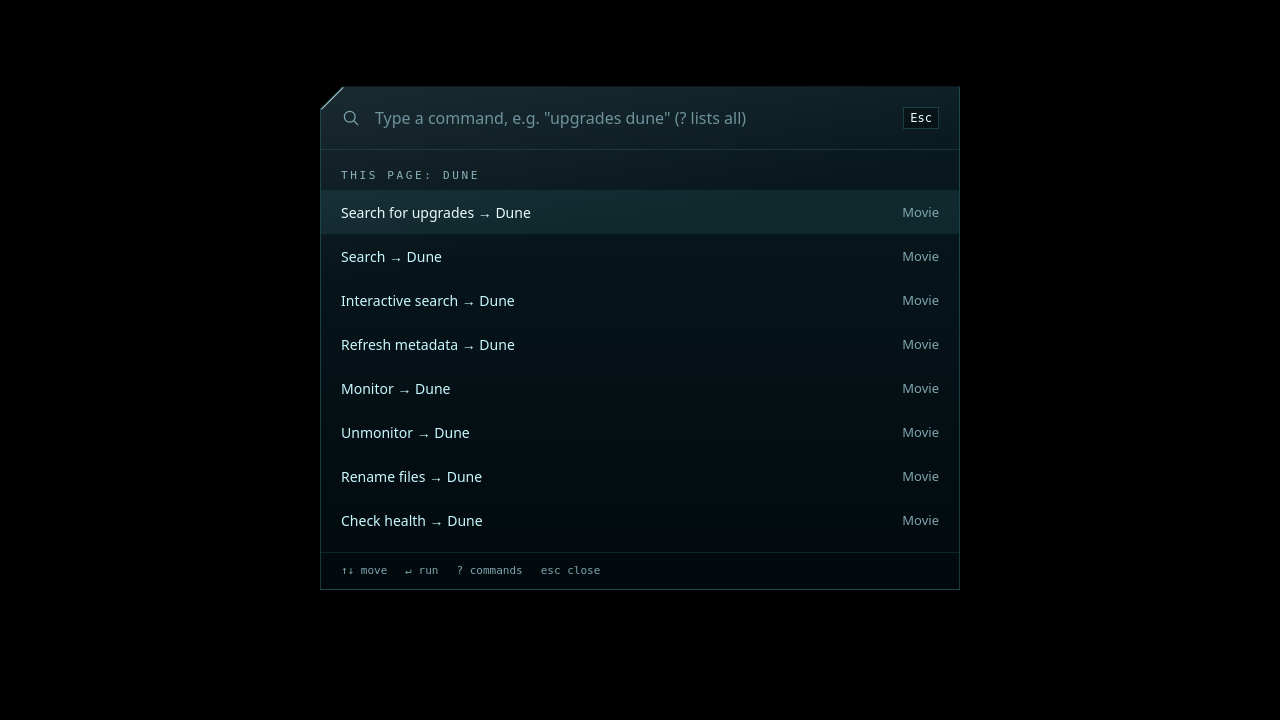
it: command palette › puts the page subject first when nothing is typed, and lists every command for "?"
This screenshot has width=1280, height=720.
expect the option "Search for upgrades → Dune Movie" is shown: met, box [321,190,959,234]
Type "?" into the dropdown. click: (632, 118)
box: [373,101,891,135]
(page scrolled)
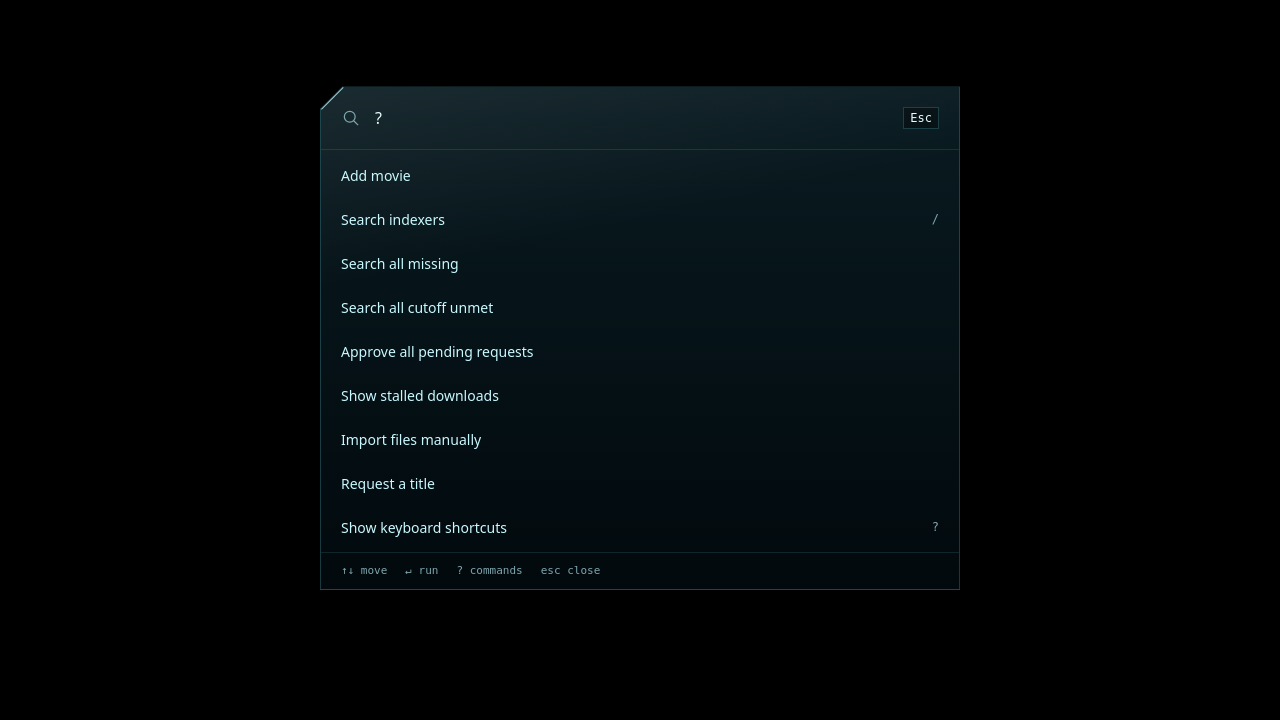
expect the option "Approve all pending requests" is shown: met, box [341,342,534,361]
